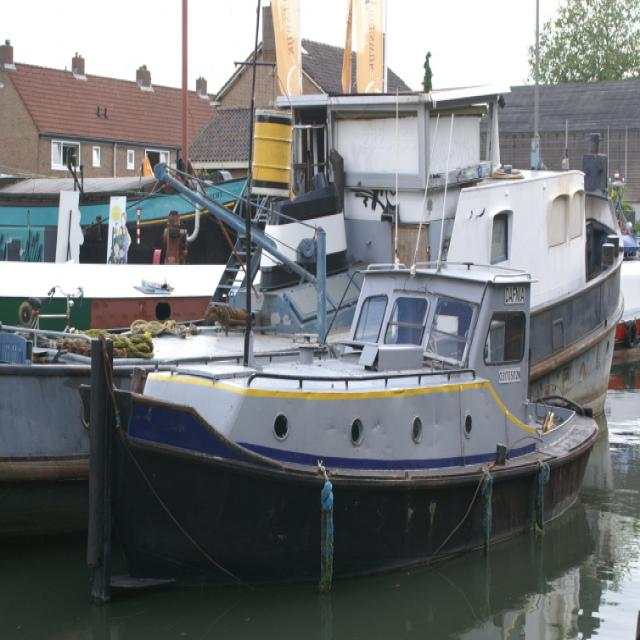tugboat: (74, 246, 608, 617)
